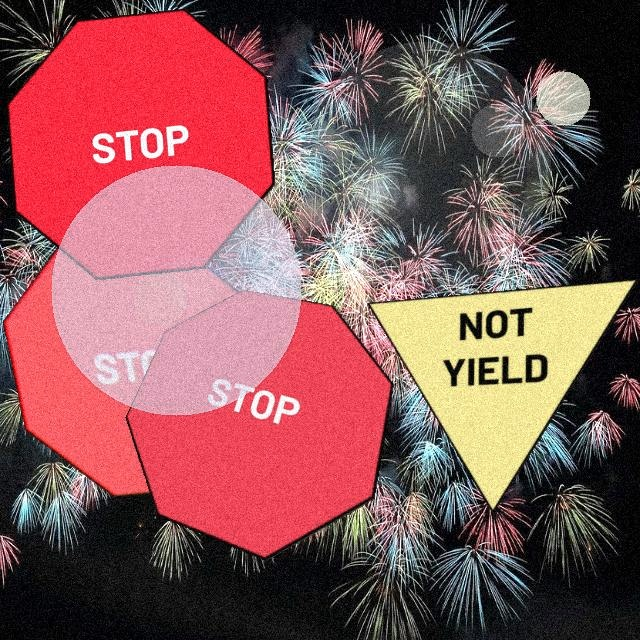NOT_YIELD: (367, 278, 639, 513)
STOP: (125, 289, 394, 561), (6, 8, 275, 280), (2, 233, 274, 498)
